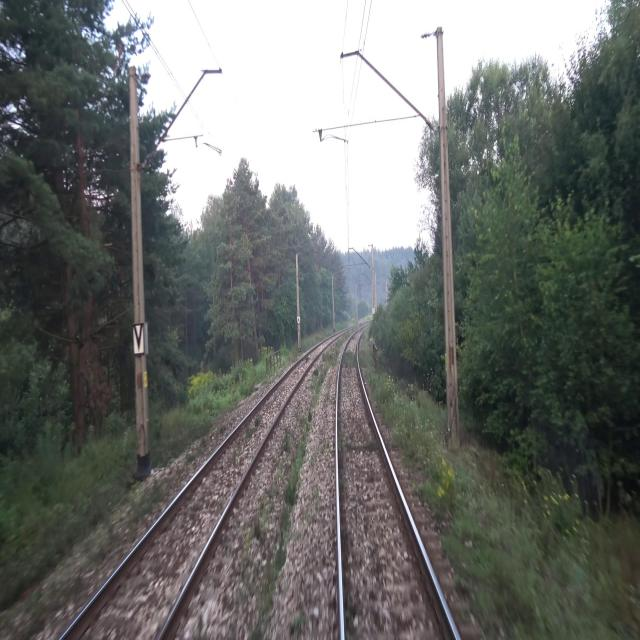rail-track: (64, 343, 326, 639), (338, 330, 455, 639)
